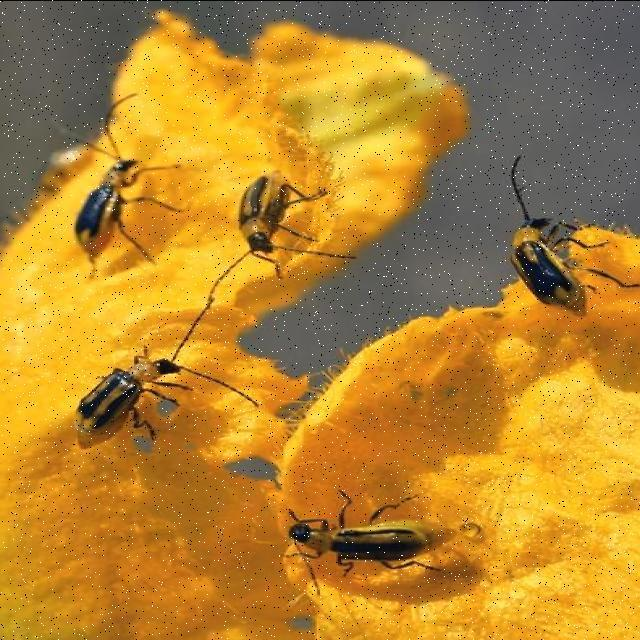trips: (484, 144, 608, 332), (52, 342, 192, 460), (55, 138, 156, 270), (226, 150, 307, 272), (276, 516, 466, 568)
